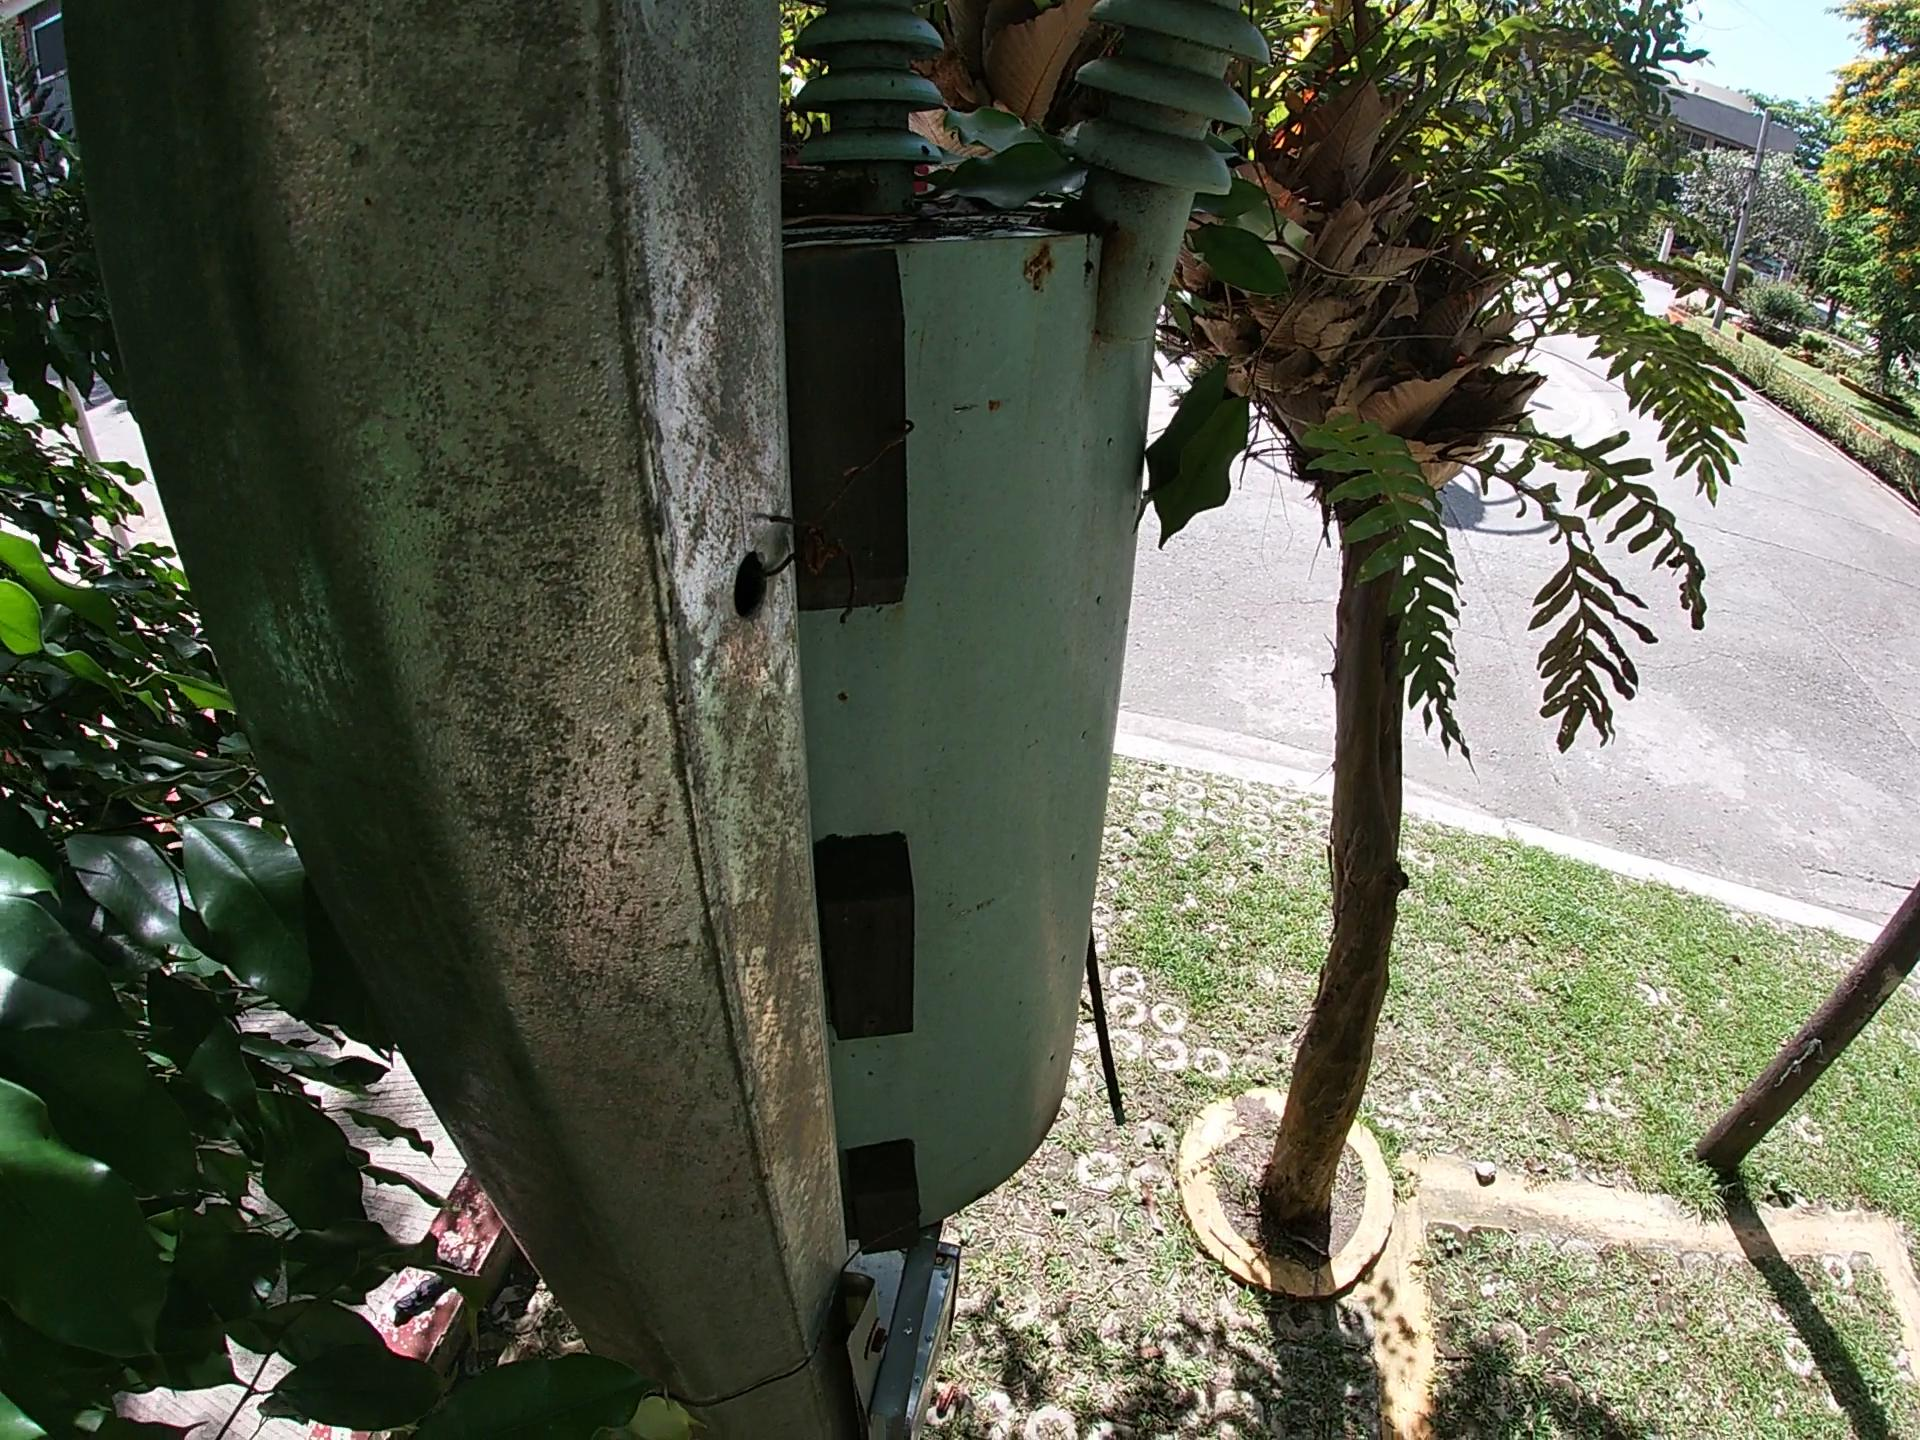branch with leaves: (1134, 74, 1417, 554)
leaf: (918, 70, 1090, 213), (780, 206, 934, 230)
tree branch: (780, 166, 922, 200)
